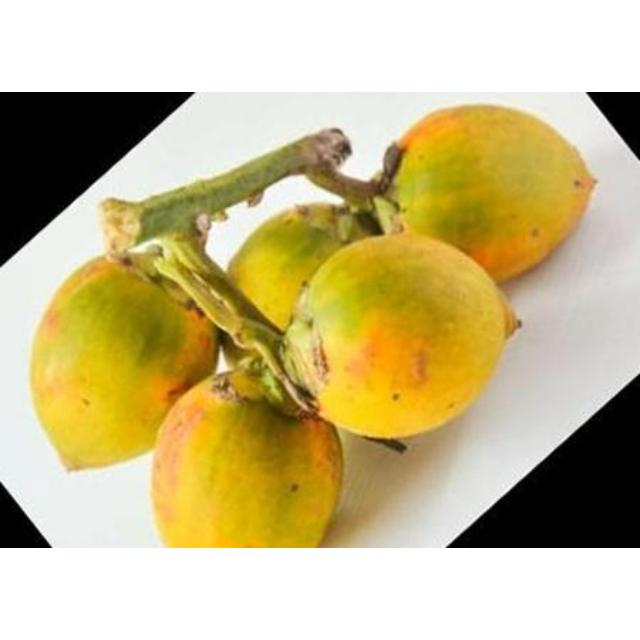good: (292, 236, 512, 444), (29, 253, 217, 471), (383, 104, 593, 282), (150, 371, 340, 545), (228, 203, 374, 335)
